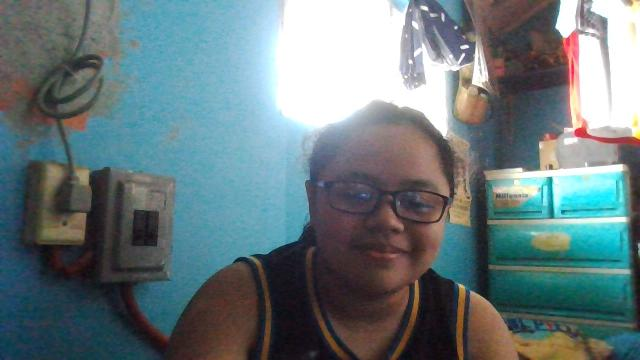senang: (314, 110, 457, 291)
